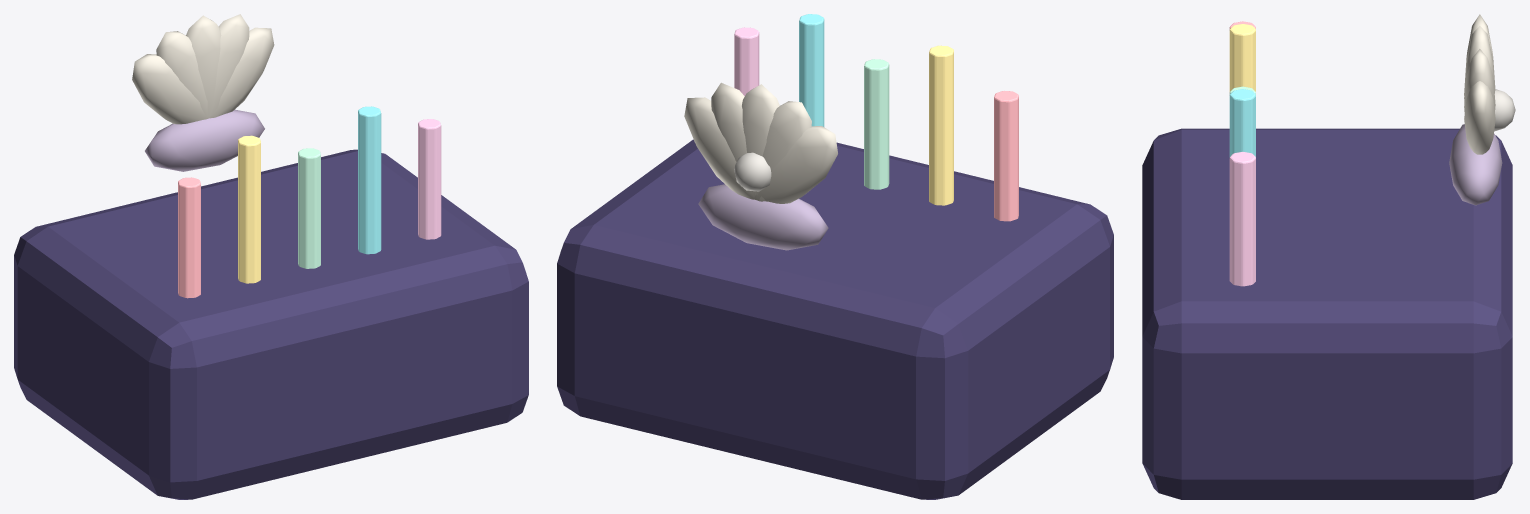
The model's file is pearl_keepsake_music_box.glb.
3 renders of one model, left to right at view 1: azimuth 30°, elevation 25°; view 2: azimuth 150°, elevation 25°; view 3: azimuth 270°, elevation 25°, orthographic. The views are drawn at different scales.
Visible parts, largest first — view 1: pearl_keepsake_music_box.001; view 2: pearl_keepsake_music_box.001; view 3: pearl_keepsake_music_box.001.
Part boxes in pixels (x1=…): pearl_keepsake_music_box.001: x1=14, y1=14, x2=528, y2=499; pearl_keepsake_music_box.001: x1=557, y1=14, x2=1113, y2=499; pearl_keepsake_music_box.001: x1=1142, y1=14, x2=1515, y2=499.
Bounding box in the file's own units: 3.2 × 2.83 × 2.47.
